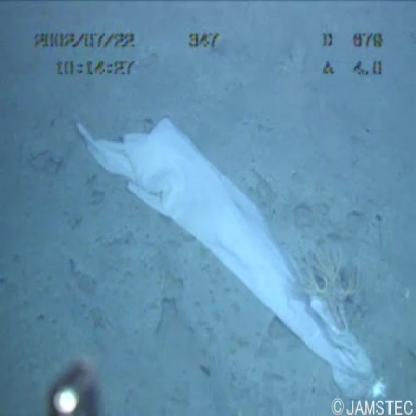Bio: (276, 237, 398, 363)
Rov: (43, 351, 111, 416)
Rác: (69, 98, 396, 398)
